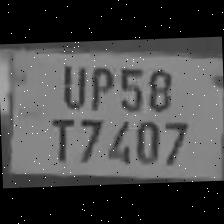0: (130, 114, 160, 166)
4: (101, 113, 131, 165)
5: (113, 62, 145, 111)
7: (72, 113, 104, 165), (159, 116, 189, 166)
8: (143, 63, 173, 112)
P: (84, 62, 114, 111)
T: (44, 114, 76, 164)
U: (54, 60, 88, 109)
